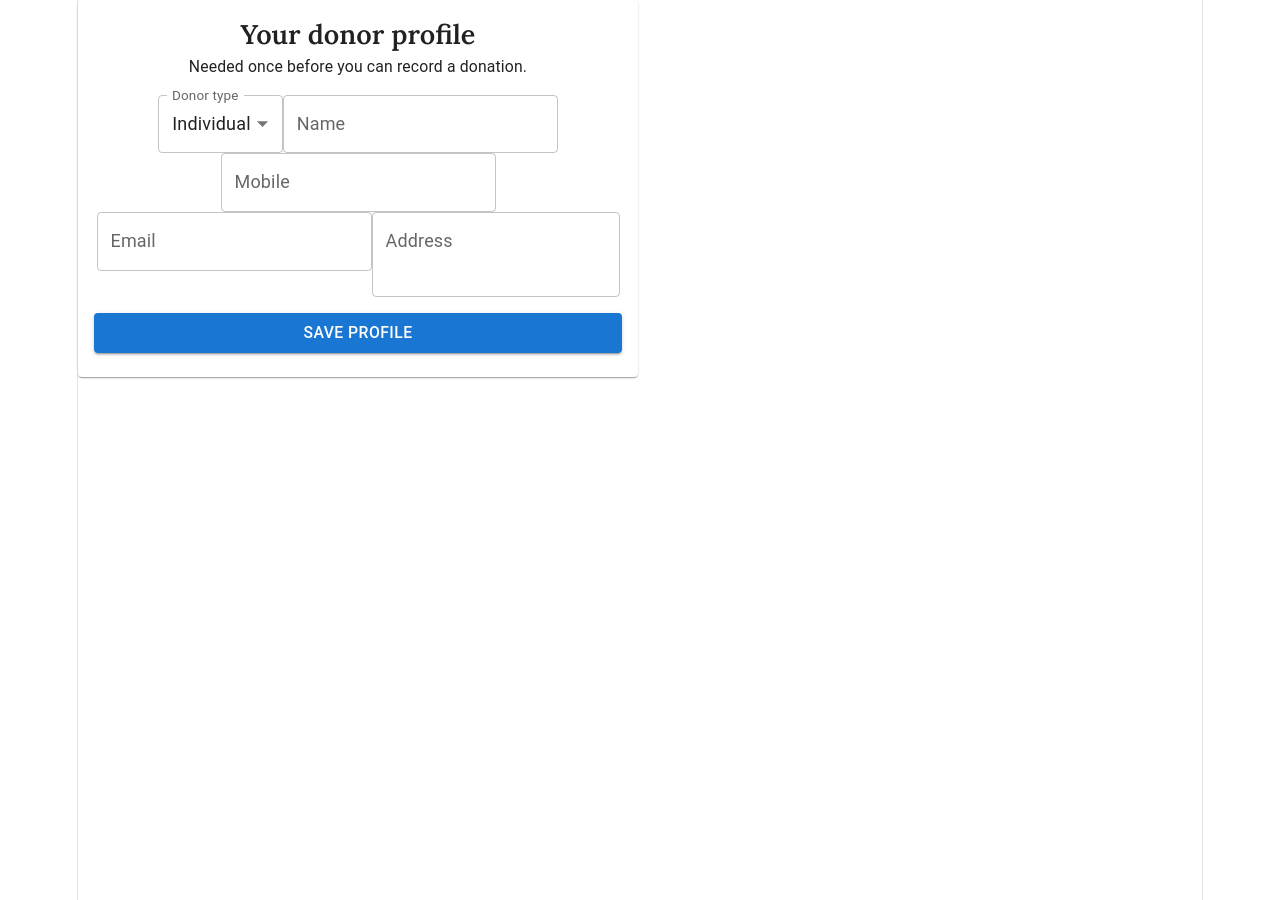
Test case: DonorProfilePage › shows the NGO fields only when NGO is selected
Check: the field labelled "contact person" is not shown
Click the dropdown named "donor type". click: {"x": 212, "y": 124}
box: [172,113,251,134]
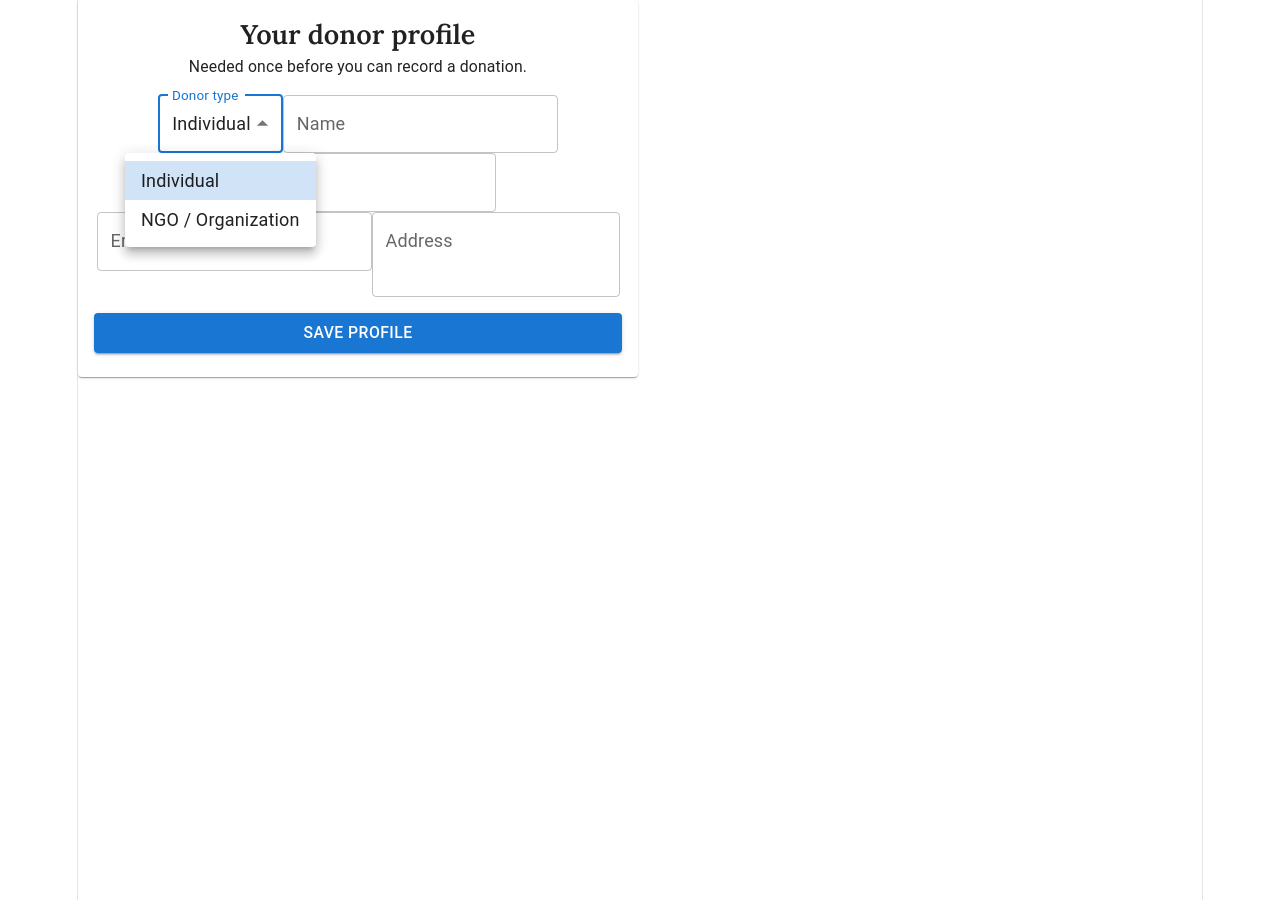
Click the option "NGO / Organization". click: {"x": 220, "y": 220}
box: [141,209,300,230]
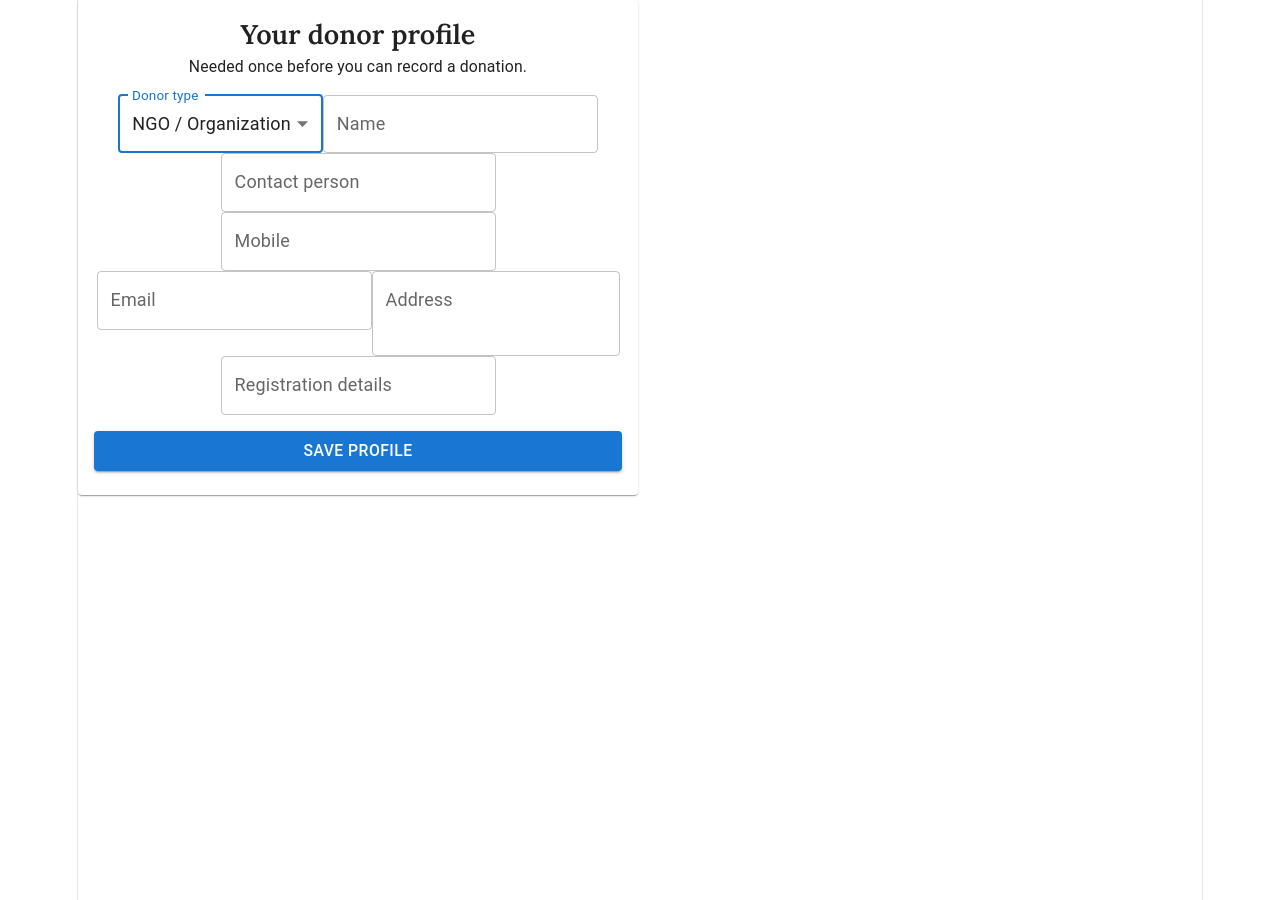
Check: the field labelled "Contact person" is shown, box [220,153,496,212]
